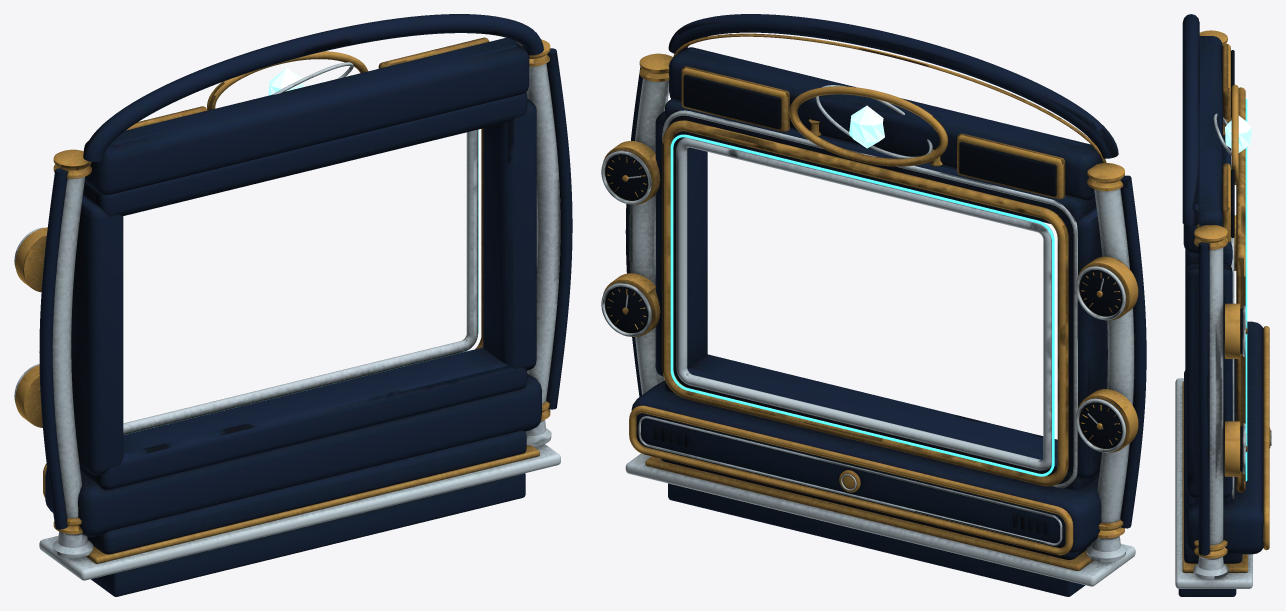
3 renders of one model, left to right at view 1: azimuth 30°, elevation 25°; view 2: azimuth 150°, elevation 25°; view 3: azimuth 270°, elevation 25°, orthographic. The views are drawn at different scales.
Parts seen in each view (by area): view 1: Midnight_enamel, Precision_chrome, Brushed_observatory_brass; view 2: Midnight_enamel, Brushed_observatory_brass, Precision_chrome, Blank_instrument_plates, Teal_neon_glow, Crystal_planet_glow; view 3: Midnight_enamel, Brushed_observatory_brass, Precision_chrome, Teal_neon_glow, Blank_instrument_plates, Crystal_planet_glow.
Part boxes in pixels (x1=…): Midnight_enamel: x1=39, y1=14, x2=572, y2=596; Precision_chrome: x1=14, y1=62, x2=560, y2=580; Brushed_observatory_brass: x1=15, y1=37, x2=550, y2=563; Midnight_enamel: x1=625, y1=14, x2=1146, y2=596; Brushed_observatory_brass: x1=603, y1=33, x2=1138, y2=570; Precision_chrome: x1=601, y1=78, x2=1135, y2=586; Blank_instrument_plates: x1=605, y1=75, x2=1122, y2=534; Teal_neon_glow: x1=670, y1=134, x2=1054, y2=476; Crystal_planet_glow: x1=849, y1=105, x2=884, y2=148; Midnight_enamel: x1=1178, y1=14, x2=1263, y2=596; Brushed_observatory_brass: x1=1182, y1=30, x2=1270, y2=572; Precision_chrome: x1=1175, y1=113, x2=1271, y2=588; Teal_neon_glow: x1=1245, y1=99, x2=1247, y2=481; Blank_instrument_plates: x1=1231, y1=50, x2=1242, y2=471; Crystal_planet_glow: x1=1225, y1=115, x2=1251, y2=152.
Size of the model in its own units: 10.36 by 9.3 by 1.83.
6 materials, 4 textured.
